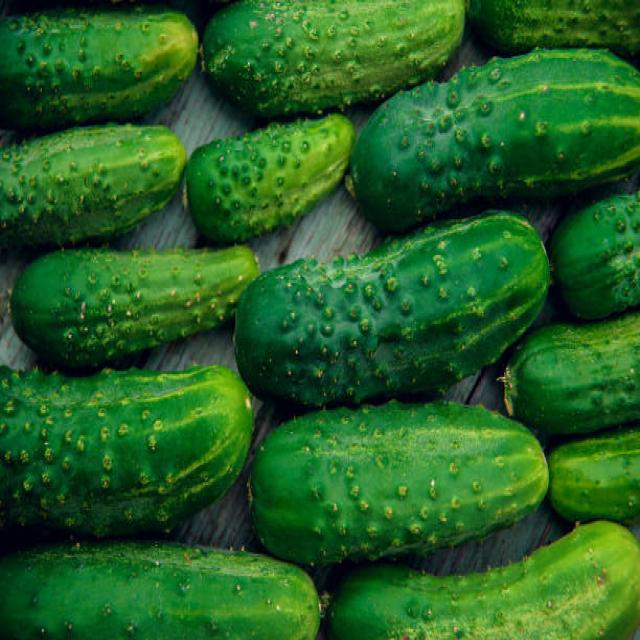cucumber: (235, 213, 550, 402), (351, 47, 640, 228), (249, 398, 548, 560), (0, 363, 253, 543), (328, 516, 640, 638), (198, 0, 465, 122), (3, 541, 317, 640), (11, 244, 253, 359), (0, 119, 188, 250), (0, 11, 199, 116), (185, 114, 354, 236), (511, 308, 640, 430), (555, 183, 640, 322)
